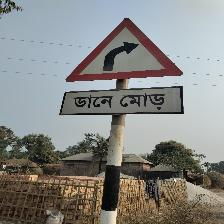Right-turn: (61, 18, 185, 117)
